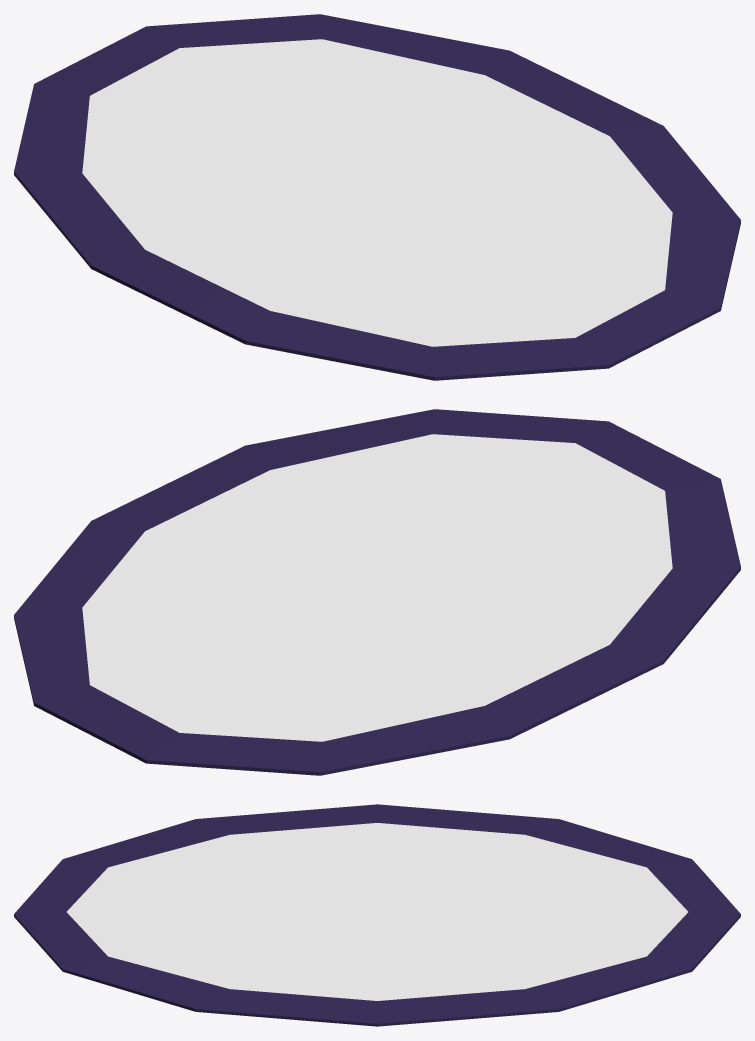
Rendered from Tapis_salle_de_bain_gamejam.fbx.
3 views of the same model, one above another, from view 1: azimuth 30°, elevation 25°; view 2: azimuth 150°, elevation 25°; view 3: azimuth 270°, elevation 25° (orthographic). The views are drawn at different scales.
Parts seen in each view (by area): view 1: Circle.001; view 2: Circle.001; view 3: Circle.001.
Part boxes in pixels (x1=…): Circle.001: x1=14, y1=14, x2=740, y2=380; Circle.001: x1=14, y1=409, x2=740, y2=775; Circle.001: x1=14, y1=804, x2=740, y2=1026.
Size of the model in its own units: 100 by 1.5 by 140.
